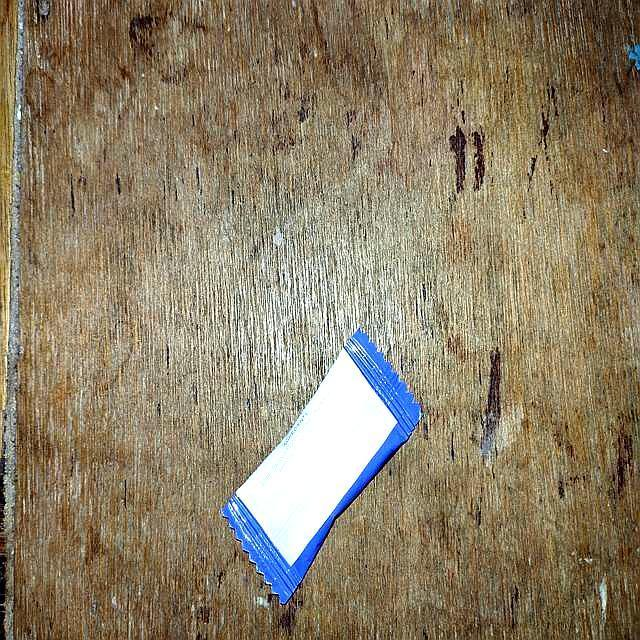Non-biodegradable: (219, 326, 424, 606)
